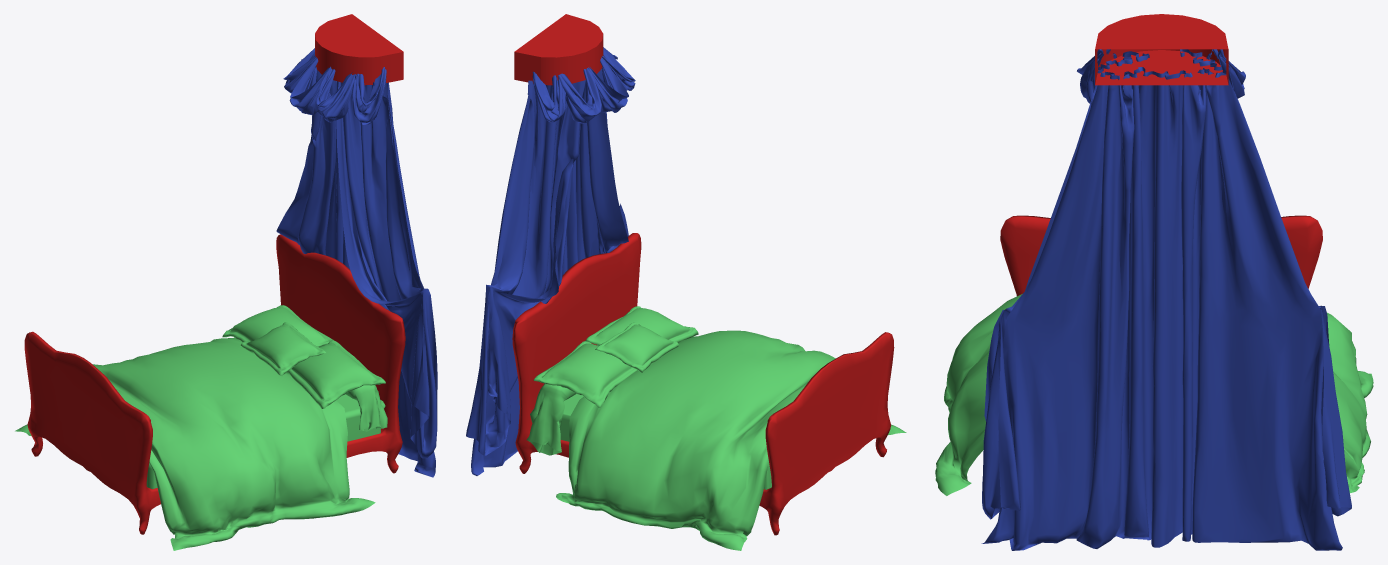
The model's file is b_obj_lit.fbx.
3 views of the same model, side by side, from view 1: azimuth 30°, elevation 25°; view 2: azimuth 150°, elevation 25°; view 3: azimuth 270°, elevation 25° (orthographic). The views are drawn at different scales.
Parts seen in each view (by area): view 1: b_obj_lit_chambre:b_obj_lit_couette_low, b_obj_lit_chambre:b_obj_lit_sommier_low, b_obj_lit_chambre:b_obj_lit_rideaux, b_obj_lit_chambre:b_obj_lit_top_low, b_obj_lit_chambre:b_obj_lit_bloub, b_obj_lit_chambre:b_obj_lit_oreiller_low, b_obj_lit_oreiller_03, b_obj_lit_oreiller_02, b_obj_lit_chambre:b_obj_lit_traversin_low, b_obj_lit_chambre:b_obj_lit_draps_low; view 2: b_obj_lit_chambre:b_obj_lit_couette_low, b_obj_lit_chambre:b_obj_lit_rideaux, b_obj_lit_chambre:b_obj_lit_sommier_low, b_obj_lit_chambre:b_obj_lit_top_low, b_obj_lit_chambre:b_obj_lit_bloub, b_obj_lit_oreiller_02, b_obj_lit_oreiller_03, b_obj_lit_chambre:b_obj_lit_traversin_low, b_obj_lit_chambre:b_obj_lit_oreiller_low, b_obj_lit_chambre:b_obj_lit_draps_low; view 3: b_obj_lit_chambre:b_obj_lit_rideaux, b_obj_lit_chambre:b_obj_lit_couette_low, b_obj_lit_chambre:b_obj_lit_top_low, b_obj_lit_chambre:b_obj_lit_sommier_low, b_obj_lit_chambre:b_obj_lit_bloub.
Boxes of the visible parts, <box> form: b_obj_lit_chambre:b_obj_lit_couette_low: <box>15,337,375,550</box>; b_obj_lit_chambre:b_obj_lit_sommier_low: <box>24,234,405,534</box>; b_obj_lit_chambre:b_obj_lit_rideaux: <box>276,70,437,477</box>; b_obj_lit_chambre:b_obj_lit_top_low: <box>315,14,403,85</box>; b_obj_lit_chambre:b_obj_lit_bloub: <box>283,48,386,124</box>; b_obj_lit_chambre:b_obj_lit_oreiller_low: <box>286,340,385,408</box>; b_obj_lit_oreiller_03: <box>240,322,326,375</box>; b_obj_lit_oreiller_02: <box>222,305,333,346</box>; b_obj_lit_chambre:b_obj_lit_traversin_low: <box>345,385,387,431</box>; b_obj_lit_chambre:b_obj_lit_draps_low: <box>146,394,380,489</box>; b_obj_lit_chambre:b_obj_lit_couette_low: <box>556,330,906,550</box>; b_obj_lit_chambre:b_obj_lit_rideaux: <box>466,69,628,475</box>; b_obj_lit_chambre:b_obj_lit_sommier_low: <box>512,233,894,535</box>; b_obj_lit_chambre:b_obj_lit_top_low: <box>514,14,603,85</box>; b_obj_lit_chambre:b_obj_lit_bloub: <box>532,47,635,123</box>; b_obj_lit_oreiller_02: <box>533,341,637,407</box>; b_obj_lit_oreiller_03: <box>595,322,679,372</box>; b_obj_lit_chambre:b_obj_lit_traversin_low: <box>526,345,598,455</box>; b_obj_lit_chambre:b_obj_lit_oreiller_low: <box>585,306,698,345</box>; b_obj_lit_chambre:b_obj_lit_draps_low: <box>560,393,771,489</box>; b_obj_lit_chambre:b_obj_lit_rideaux: <box>981,49,1351,550</box>; b_obj_lit_chambre:b_obj_lit_couette_low: <box>935,294,1373,495</box>; b_obj_lit_chambre:b_obj_lit_top_low: <box>1095,14,1228,85</box>; b_obj_lit_chambre:b_obj_lit_sommier_low: <box>1000,215,1322,296</box>; b_obj_lit_chambre:b_obj_lit_bloub: <box>1077,49,1245,103</box>.
Size of the model in its own units: 323 by 402 by 316.
